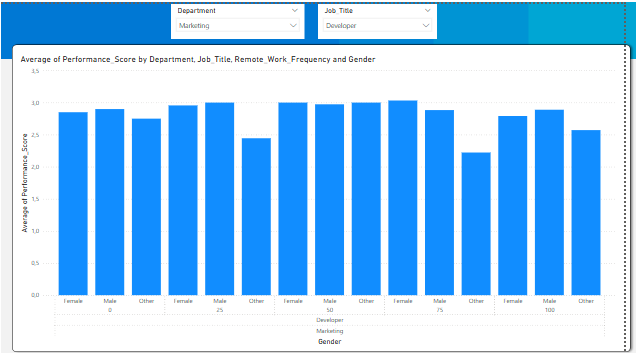

This screenshot's page, from the dashboard's own definition file:
{"tool":"powerbi","page":{"name":"Page 4","canvas":[1280,720],"ordinal":3},"visuals":[{"type":"slicer","fields":{"Values":["dimDepartment.Department"]},"box":[373.3,0,266.7,70],"z":2},{"type":"slicer","fields":{"Values":["dimEmployee.Job_Title"]},"box":[668.3,0,238.3,70],"z":3},{"type":"clusteredColumnChart","fields":{"Category":["dimDepartment.Department","dimEmployee.Job_Title","dimEmployee.Remote_Work_Frequency","dimEmployee.Gender"],"Y":["Avg(factEmployee_Productivity.Performance_Score)"]},"box":[68.3,100,1200,588.3],"z":5}]}

Visuals, with their boxes in screenshot pixels (x1, y1, x2, y2), scaled from the page's 1280x720 canvas onto the 638x354 screenshot:
slicer - dimDepartment.Department: (186, 0, 319, 34)
slicer - dimEmployee.Job_Title: (333, 0, 452, 34)
clusteredColumnChart - dimDepartment.Department x dimEmployee.Job_Title: (34, 49, 632, 338)
